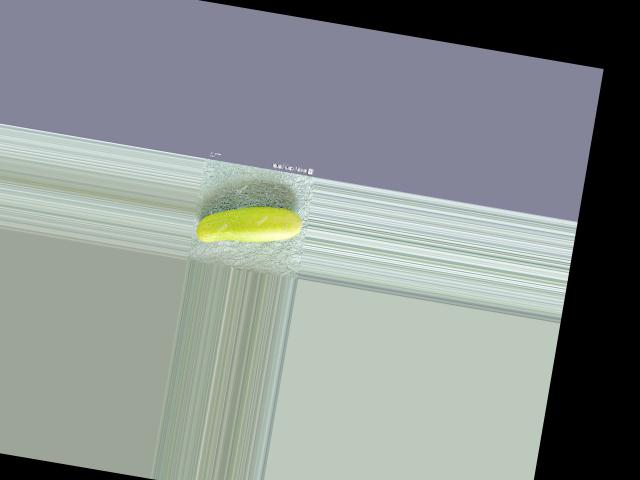cucumber: (193, 194, 304, 257)
